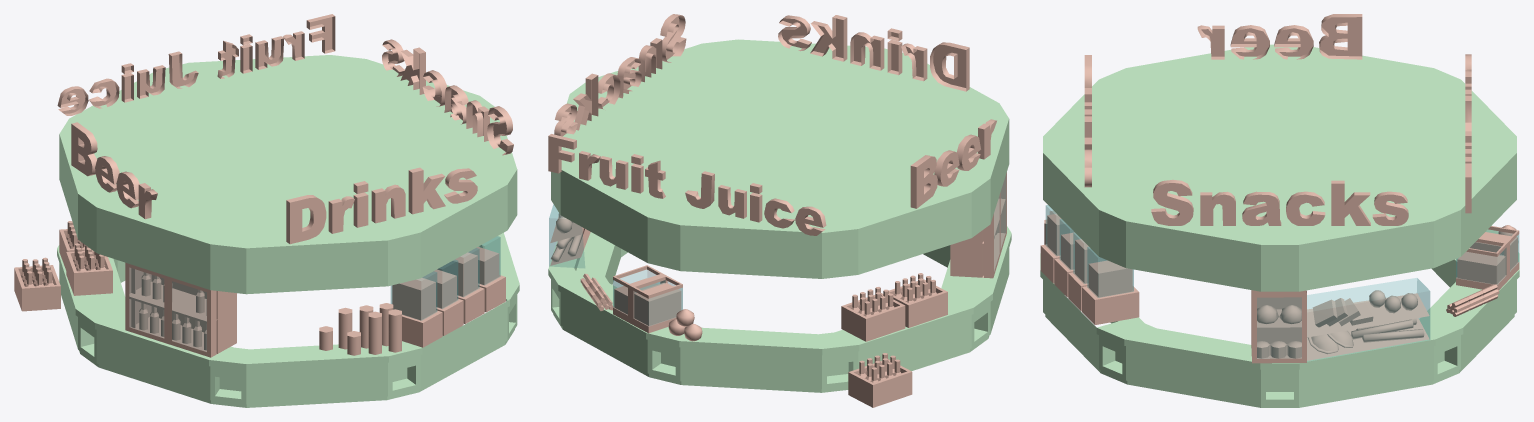
Rendered from CentreKiosk.fbx.
The picture shows the model from 3 angles, left to right: view 1: azimuth 30°, elevation 25°; view 2: azimuth 150°, elevation 25°; view 3: azimuth 270°, elevation 25°; orthographic projection. The views are drawn at different scales.
Parts seen in each view (by area): view 1: CentreKiosk; view 2: CentreKiosk; view 3: CentreKiosk.
Part boxes in pixels (box(x1,y1,x2,y2)): CentreKiosk: box(14, 14, 519, 407); CentreKiosk: box(548, 14, 1011, 407); CentreKiosk: box(1040, 14, 1519, 407).
Size of the model in its own units: 928 by 442 by 926.
